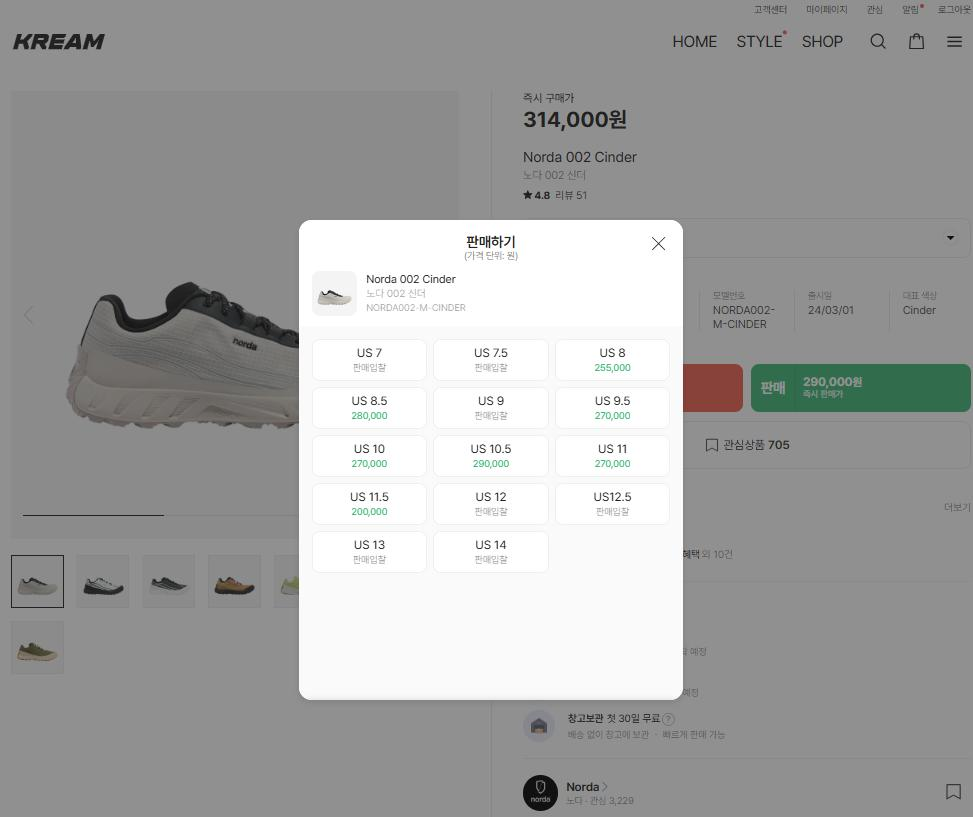button: (752, 363, 972, 411), (433, 387, 545, 428), (315, 388, 427, 429), (558, 338, 670, 379), (560, 436, 672, 477), (432, 438, 544, 479), (317, 484, 429, 525), (316, 532, 428, 573), (558, 486, 670, 527), (314, 341, 425, 382), (434, 340, 545, 381), (315, 436, 426, 477), (560, 385, 671, 426), (433, 530, 544, 571), (437, 484, 548, 525), (13, 557, 65, 605), (78, 558, 130, 606), (208, 560, 260, 608), (13, 626, 65, 673), (143, 558, 195, 605), (738, 31, 785, 51), (803, 31, 850, 51), (672, 31, 718, 51), (811, 3, 859, 16), (944, 779, 966, 803), (755, 3, 795, 16), (865, 32, 890, 52), (939, 3, 973, 16), (907, 32, 929, 52), (945, 31, 965, 51), (901, 3, 929, 15), (869, 2, 891, 14)
